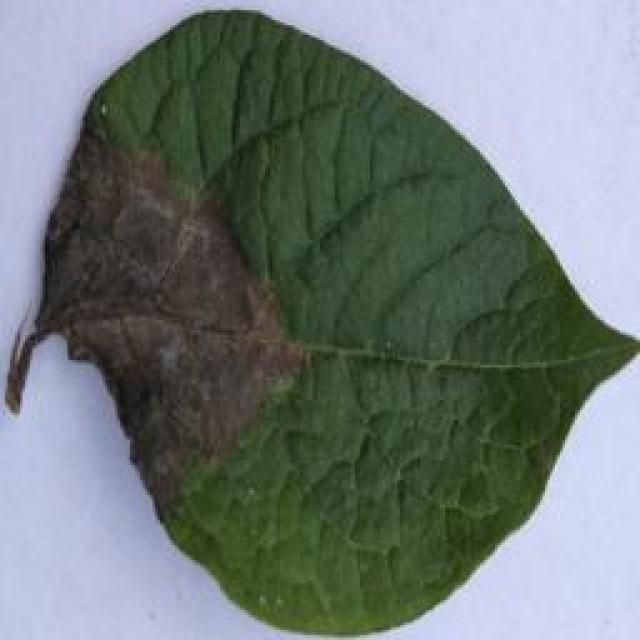Potato_Late_Blight: (0, 7, 627, 631)
